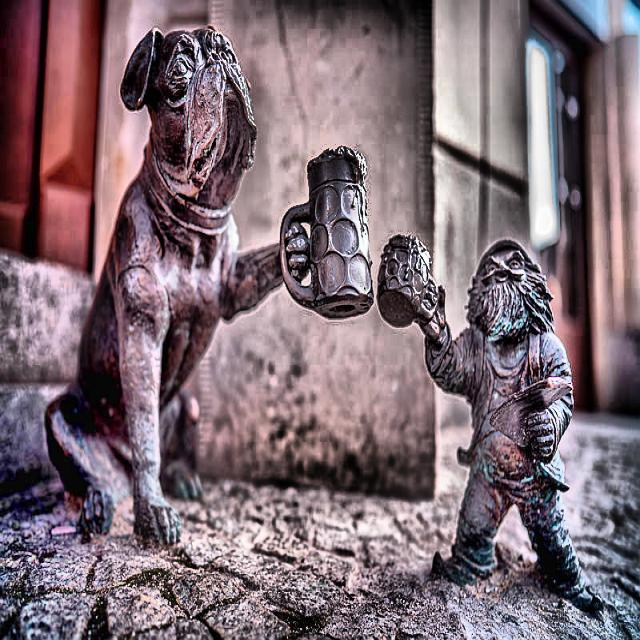Piwozlopek_ i_Piesel_Piwosz: (45, 26, 374, 543), (378, 236, 601, 613)
